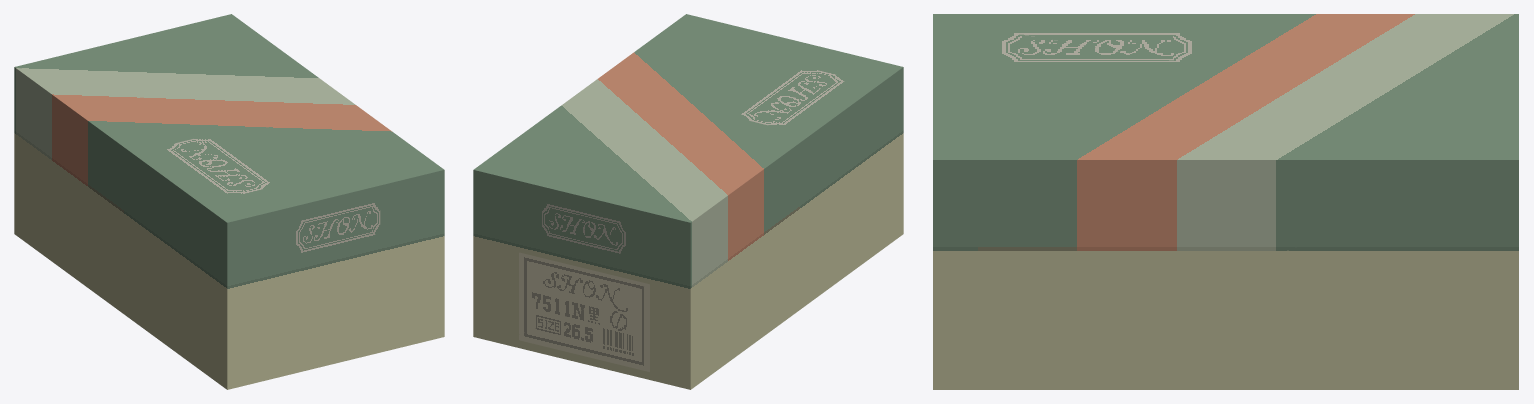
The model's file is 0475_Shoe_Box.glb.
3 renders of one model, left to right at view 1: azimuth 30°, elevation 25°; view 2: azimuth 150°, elevation 25°; view 3: azimuth 270°, elevation 25°, orthographic. The views are drawn at different scales.
Parts seen in each view (by area): view 1: part_0; view 2: part_0; view 3: part_0.
Boxes of the visible parts, box(x1,y1,x2,y2) form: part_0: box(14, 14, 444, 389); part_0: box(473, 14, 903, 389); part_0: box(933, 14, 1518, 389).
Bounding box in the file's own units: 0.2196 × 0.1618 × 0.3738.
1 material, 1 textured.
